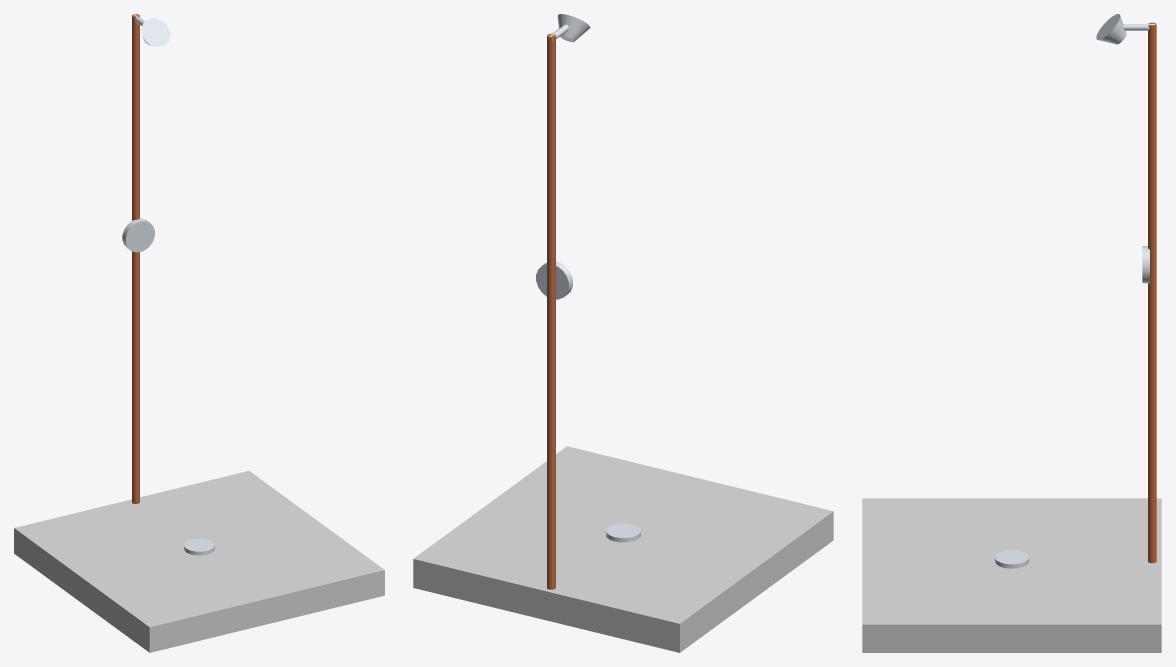
The model's file is fixture-shower.glb.
3 renders of one model, left to right at view 1: azimuth 30°, elevation 25°; view 2: azimuth 150°, elevation 25°; view 3: azimuth 270°, elevation 25°, orthographic. The views are drawn at different scales.
Parts seen in each view (by area): view 1: plumbing-fixture-shower; view 2: plumbing-fixture-shower; view 3: plumbing-fixture-shower.
Part boxes in pixels (x1,y1,x2,y2): plumbing-fixture-shower: [14, 14, 384, 652]; plumbing-fixture-shower: [413, 14, 833, 652]; plumbing-fixture-shower: [862, 14, 1161, 652].
Bounding box in the file's own units: 0.96 × 2.03 × 0.96.
